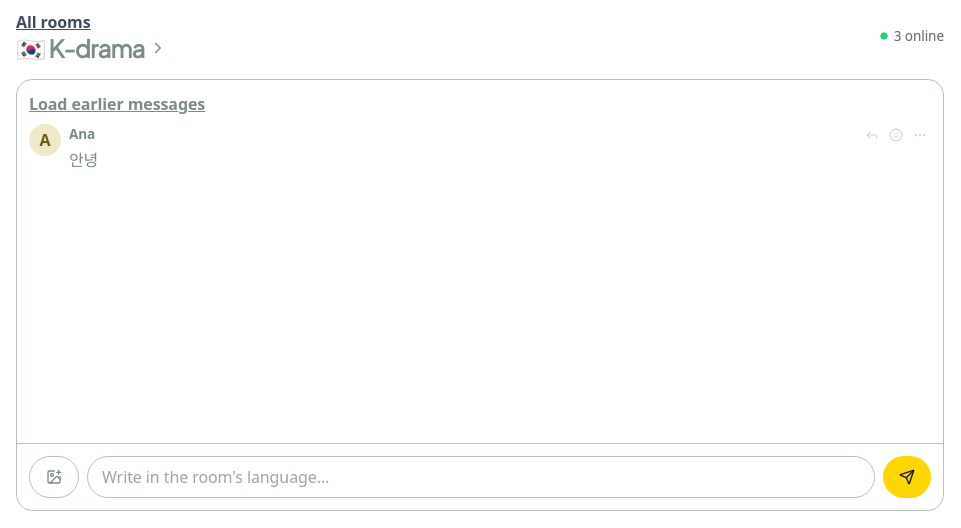
Test: any other refusal says "Failed to send message" and keeps the text
This screenshot has width=961, height=528.
Type "hola" into the field with test id "language-room-input" at coordinates (481, 477), box [87,456,875,498]
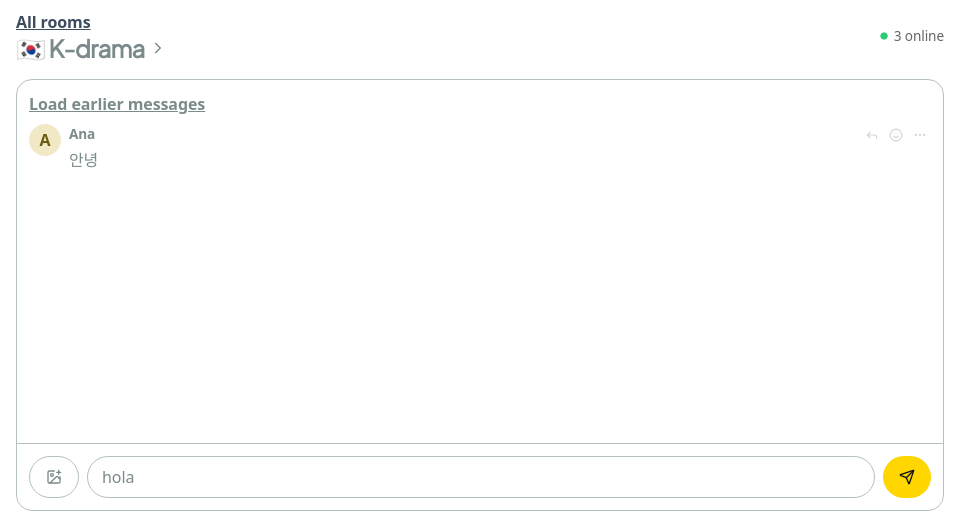
Click the button with test id "language-room-send" at coordinates (907, 477), box [883,456,931,498]
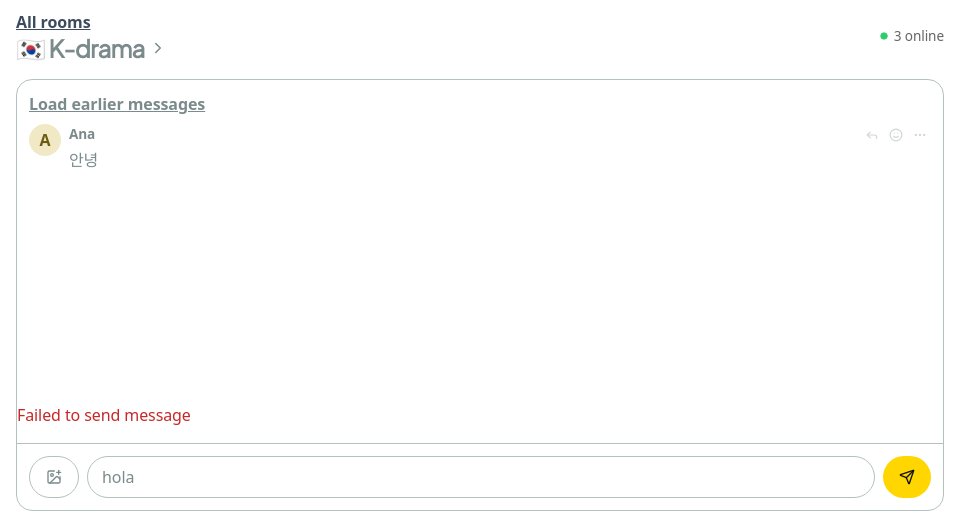
Check: the message with test id "language-room-send-error" reads "Failed to send message", box [17,404,191,426]
